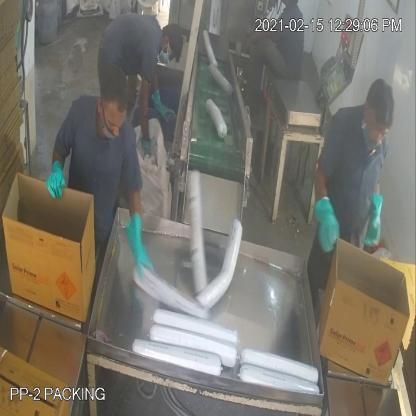glove: (116, 199, 161, 278), (308, 182, 346, 266), (364, 185, 395, 251), (40, 153, 73, 203)
no_glove: (137, 68, 155, 141), (238, 23, 279, 52)
